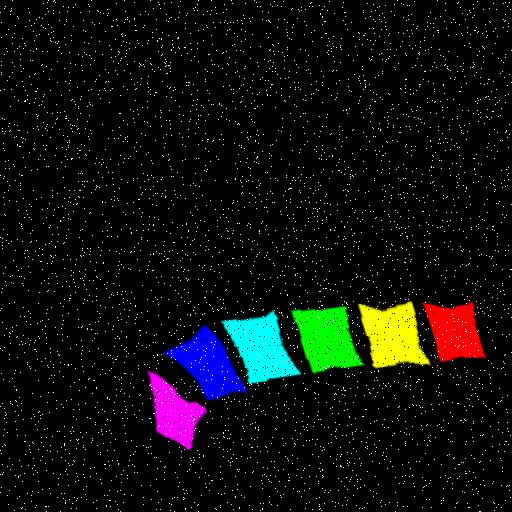L1: (415, 295, 476, 355)
L2: (351, 297, 421, 364)
L3: (283, 302, 354, 368)
L4: (214, 307, 290, 380)
L5: (155, 324, 236, 398)
S1: (138, 369, 196, 447)
